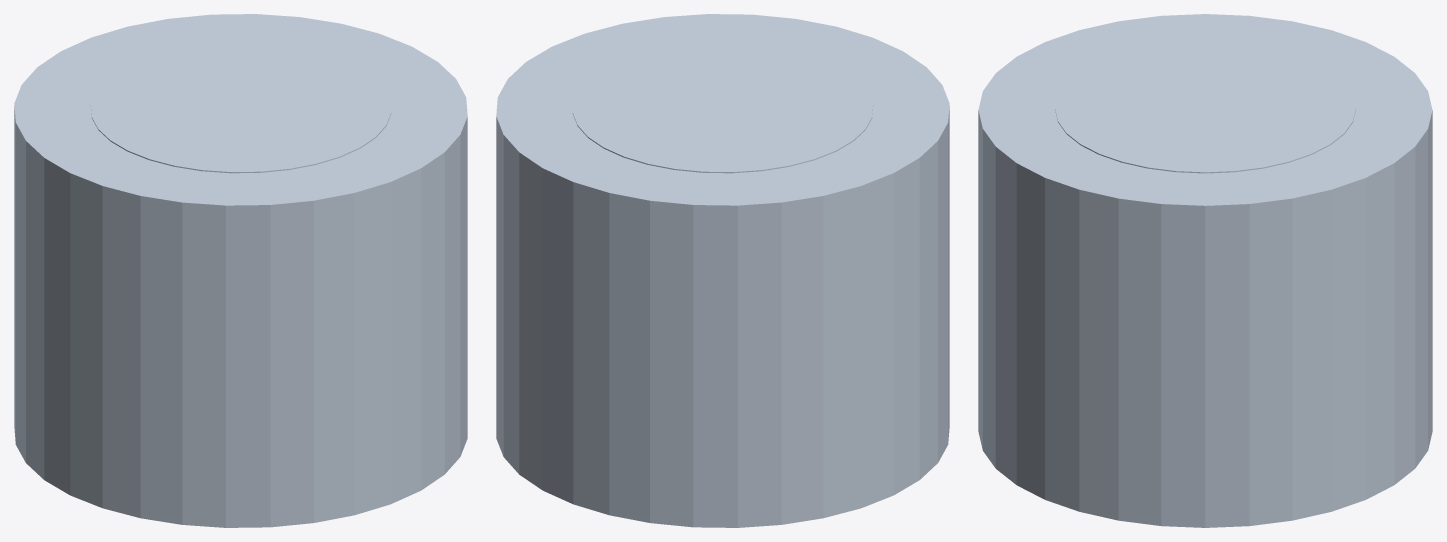
The model's file is Pool.fbx.
3 views of the same model, side by side, from view 1: azimuth 30°, elevation 25°; view 2: azimuth 150°, elevation 25°; view 3: azimuth 270°, elevation 25° (orthographic).
Parts seen in each view (by area): view 1: Cylinder.001, Cylinder.002; view 2: Cylinder.001, Cylinder.002; view 3: Cylinder.001, Cylinder.002.
Part boxes in pixels (x1=…): Cylinder.001: x1=14, y1=14, x2=467, y2=527; Cylinder.002: x1=90, y1=45, x2=391, y2=173; Cylinder.001: x1=496, y1=14, x2=949, y2=527; Cylinder.002: x1=572, y1=45, x2=873, y2=173; Cylinder.001: x1=978, y1=14, x2=1432, y2=527; Cylinder.002: x1=1055, y1=45, x2=1355, y2=173.
Size of what is drawn, in the model's own units: 6.43 by 6.43 by 5.05.
